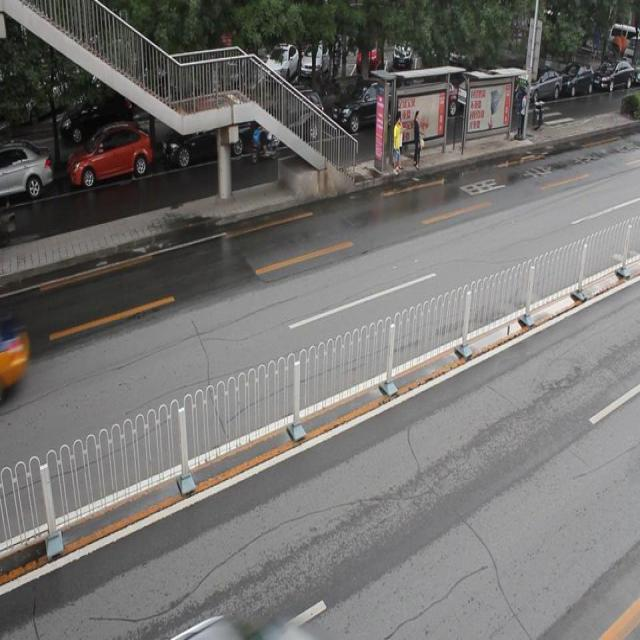car: (68, 123, 154, 188), (162, 108, 247, 168), (258, 88, 325, 149), (332, 76, 400, 134), (1, 142, 54, 202)
